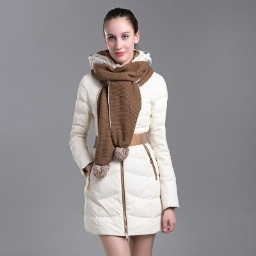face: (102, 8, 141, 61)
